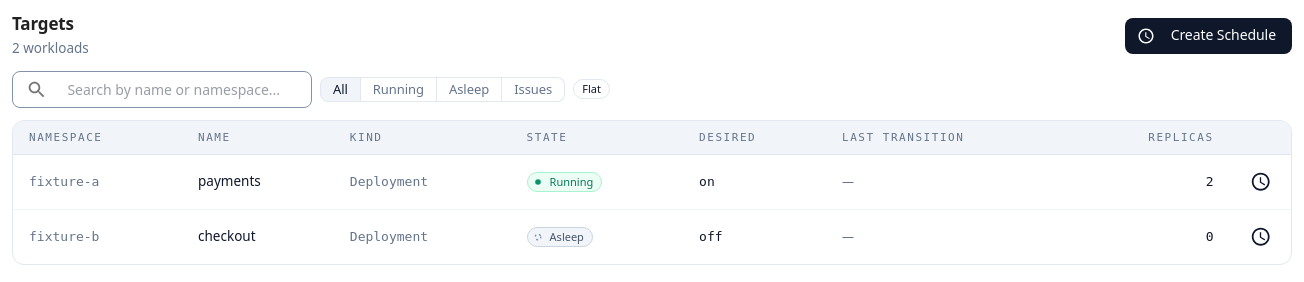
Scenario: operational pages › filters targets by a value the operator can see
Expected: the link "payments" is shown, [198, 172, 261, 190]
Step 1. Type "checkout" into the field with placeholder "Search by name or namespace..." → (184, 89), box [55, 71, 312, 108]
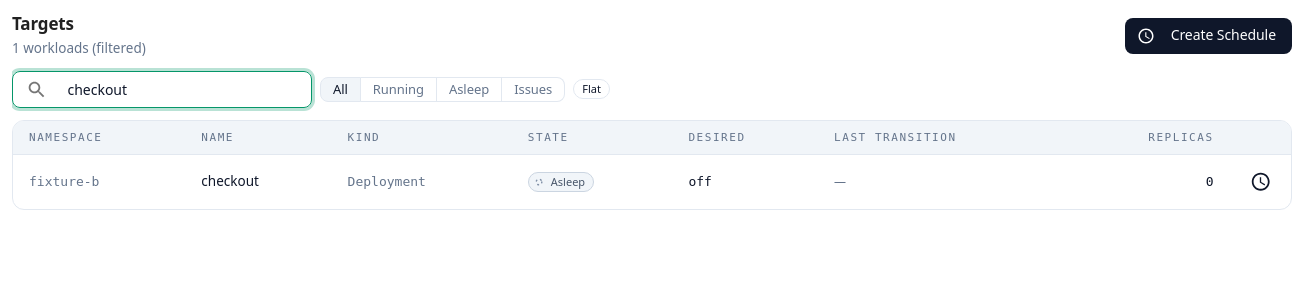
Expected: the link "checkout" is shown, [201, 172, 259, 190]
Expected: the link "payments" is gone
Expected: the text "1 workloads (filtered)" is shown, [12, 38, 146, 59]
